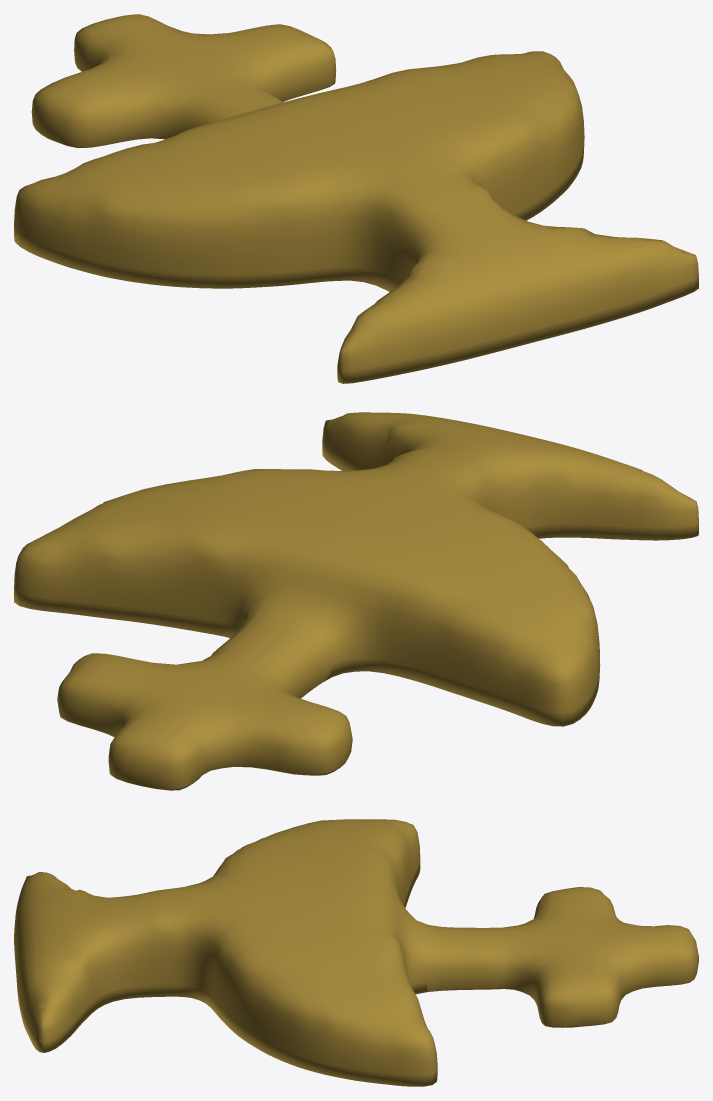
Rendered from decoration-cleric.glb.
3 views of the same model, one above another, from view 1: azimuth 30°, elevation 25°; view 2: azimuth 150°, elevation 25°; view 3: azimuth 270°, elevation 25° (orthographic). The views are drawn at different scales.
Visible parts, largest first — view 1: decoration_cleric; view 2: decoration_cleric; view 3: decoration_cleric.
Part boxes in pixels (x1,y1,x2,y2): decoration_cleric: (14,14,698,383); decoration_cleric: (14,412,698,790); decoration_cleric: (14,819,698,1086).
Bounding box in the file's own units: 0.1233 × 0.021 × 0.158.
